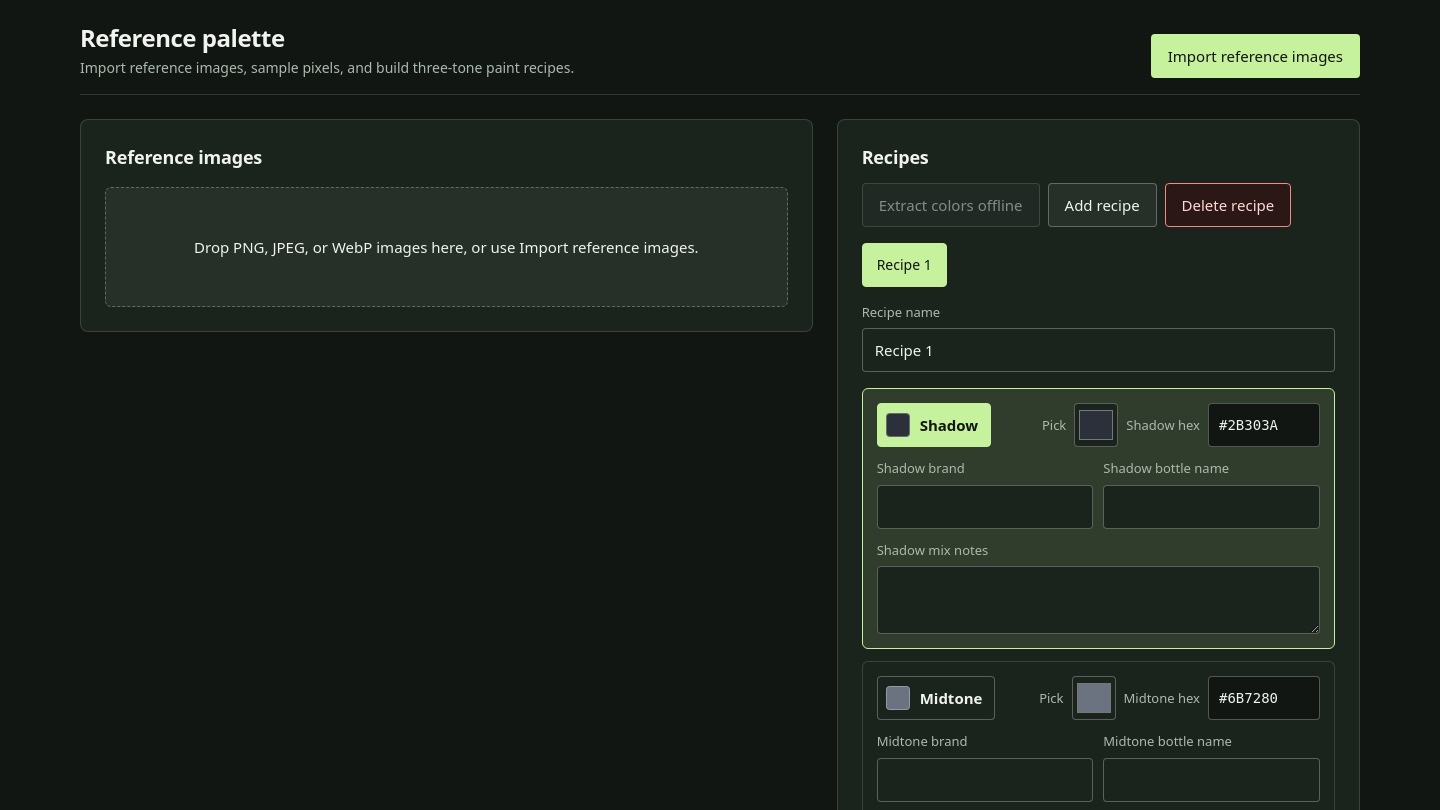
it: PaletteWorkspace › mounts with no required props and lets the painter create and rename recipes
Later steps or results of the test are not shown.
Expected: the heading "Reference palette" is shown, [80,21,285,54]
Expected: the header labelled "Import reference images" is shown, [80,24,1360,95]
Click the button "Add recipe" at (1102, 205), box [1048,183,1156,227]
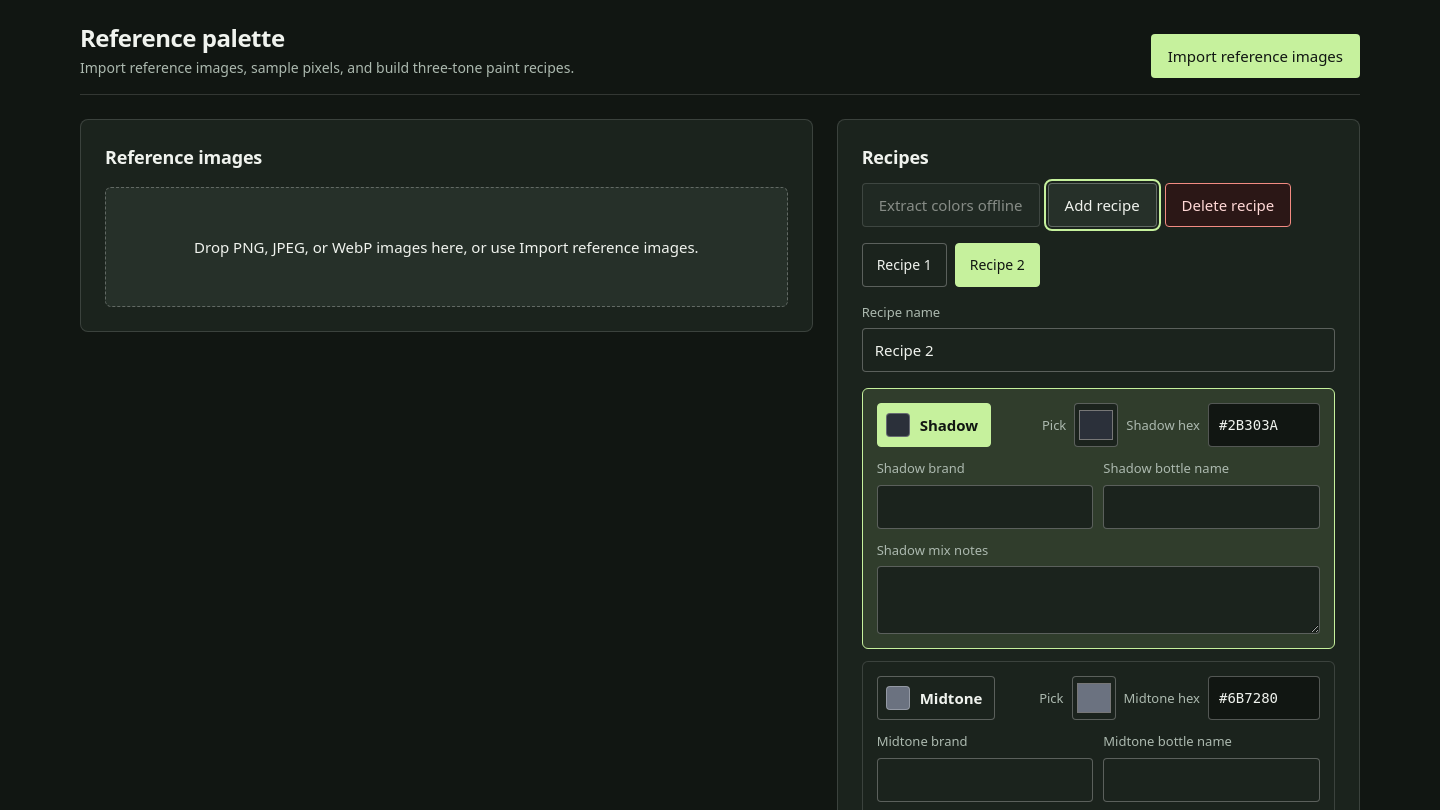
Expected: the field labelled "Recipe name" holds "Recipe 2"
Replace the text in the field labelled "Recipe name" with "Cloak Blue" at (1098, 350), box [862,328,1335,372]
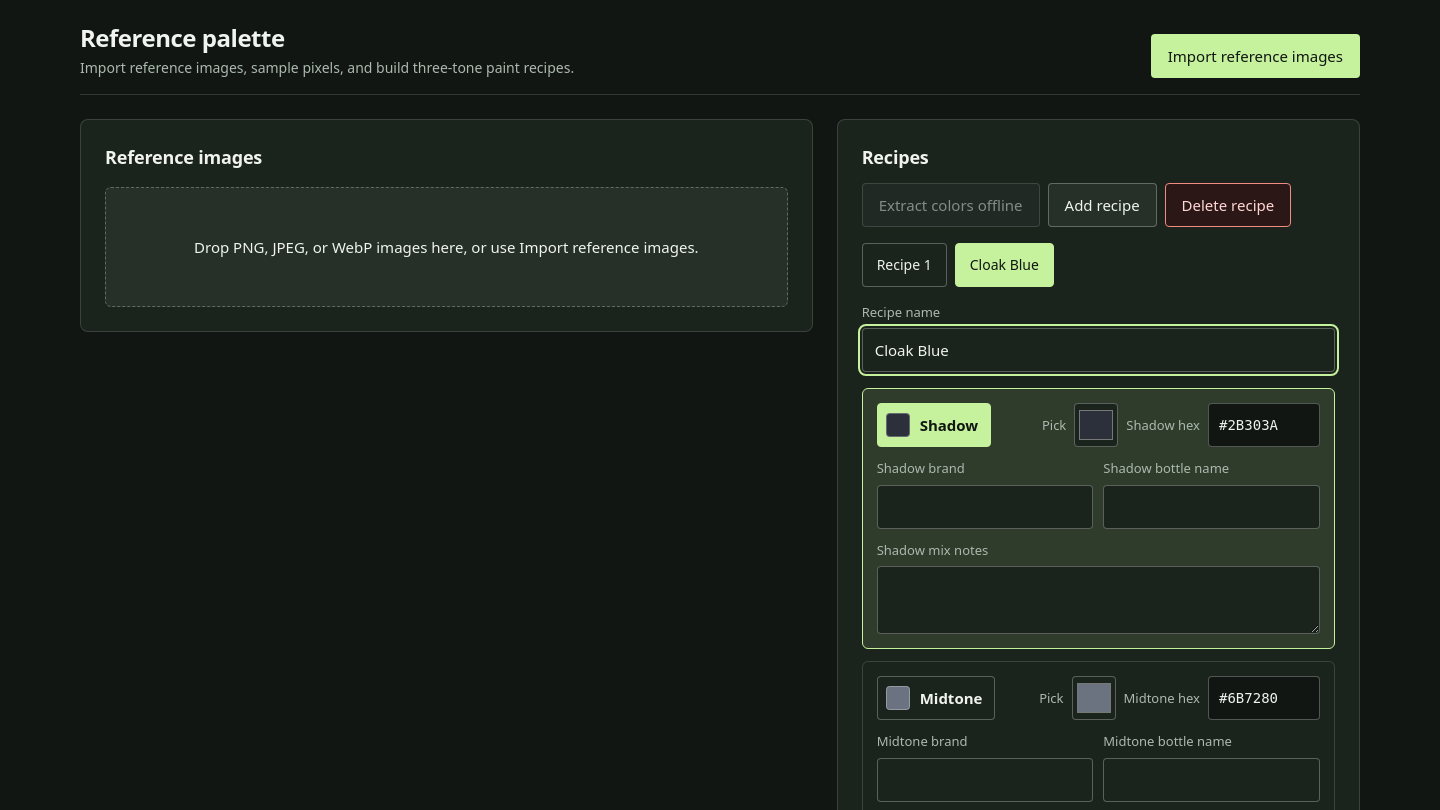
Click the button "Recipe 1" at (904, 265), box [862,243,947,287]
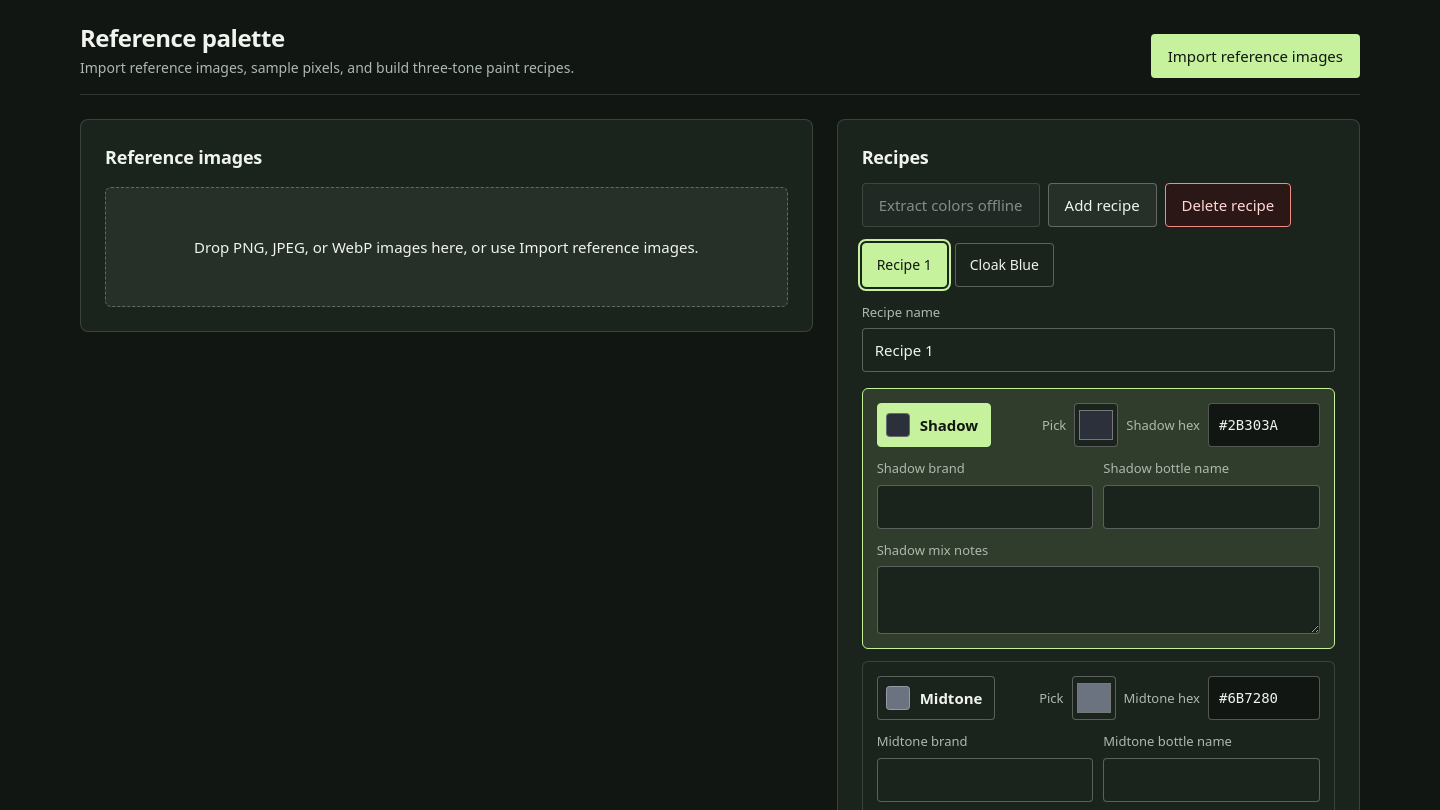
Expected: the field labelled "Recipe name" holds "Recipe 1", [862,328,1335,372]
